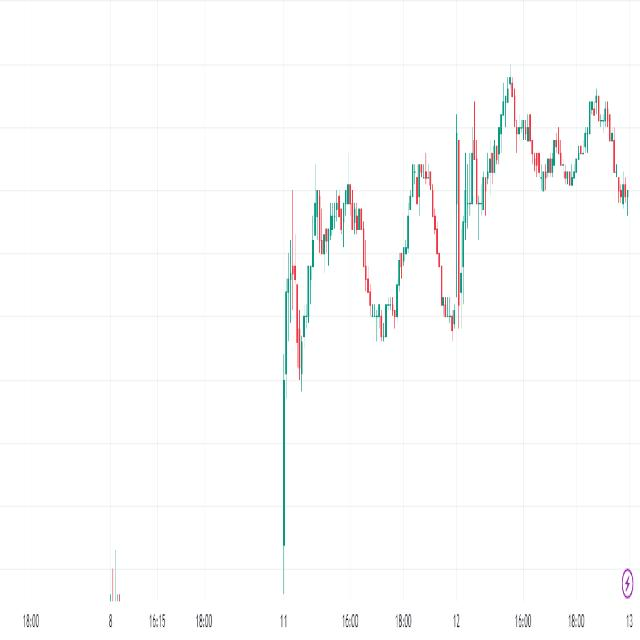Ascending-Triangle: (279, 137, 519, 409)
